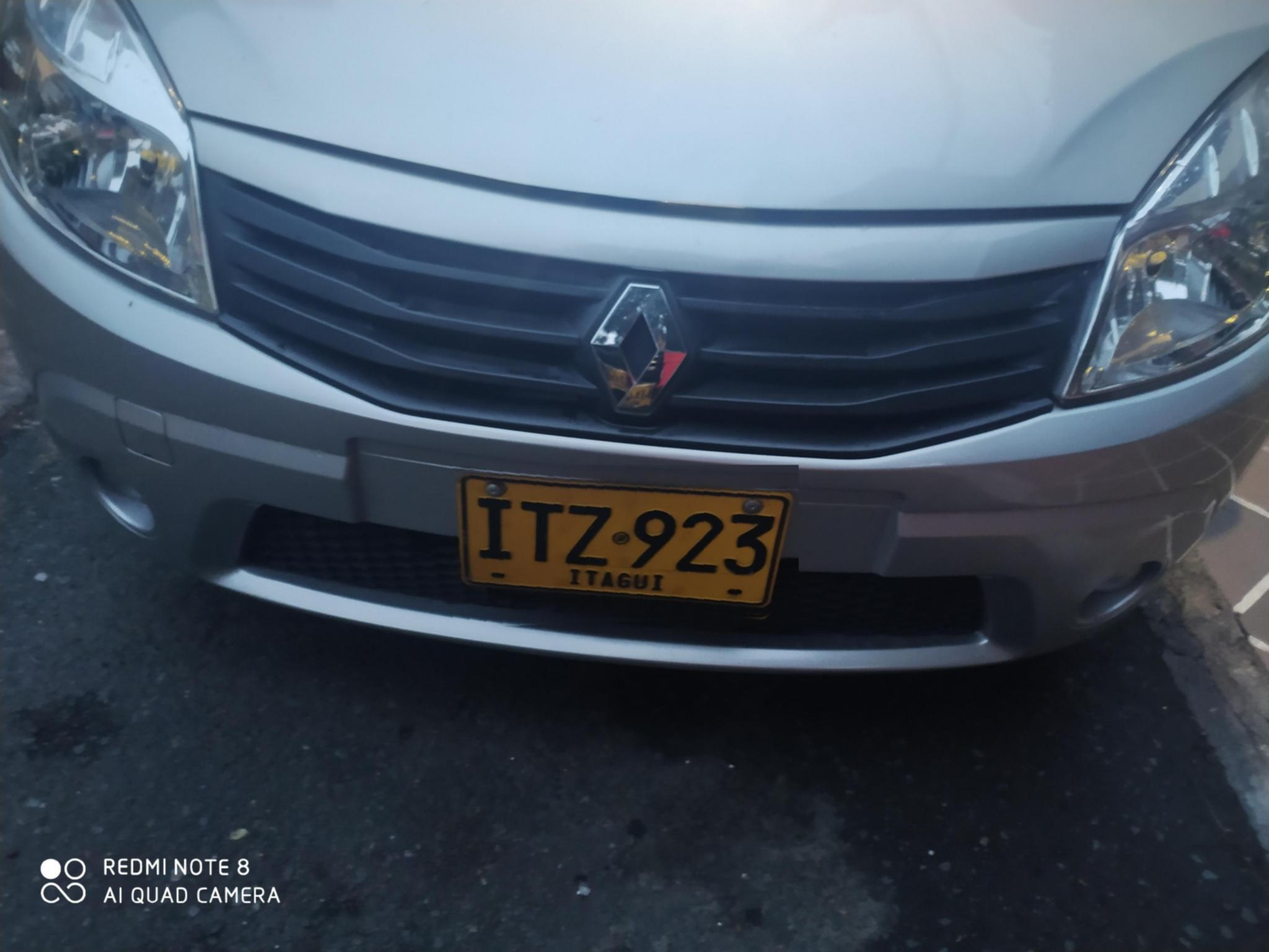placa: (444, 465, 799, 629)
